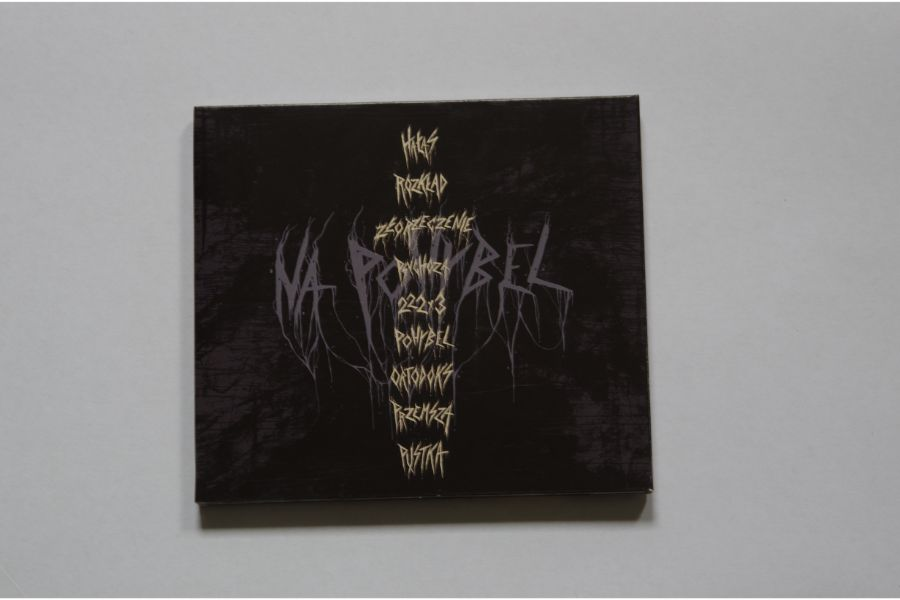album: (190, 93, 661, 506)
